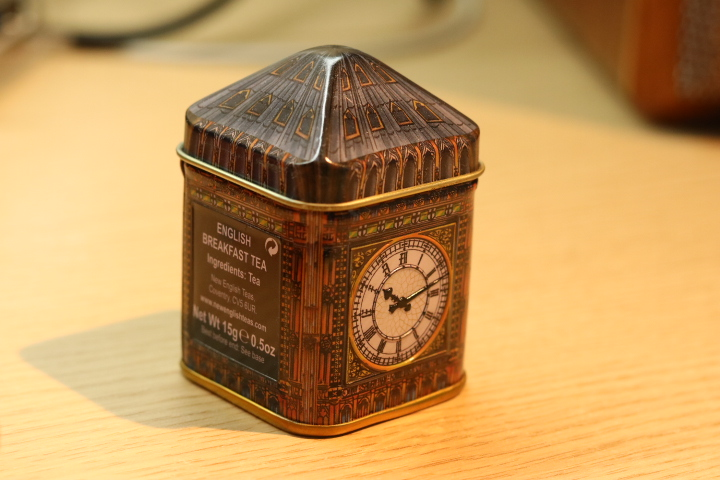Big Ben: (167, 33, 504, 457)
